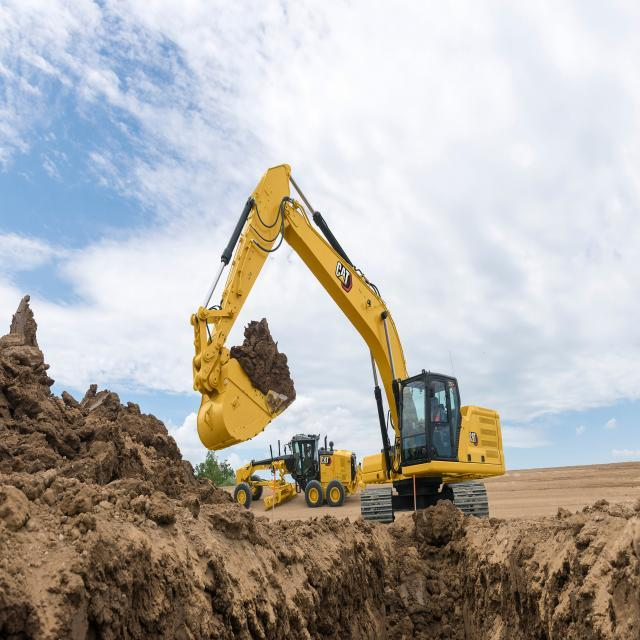excavator: (191, 167, 503, 511)
